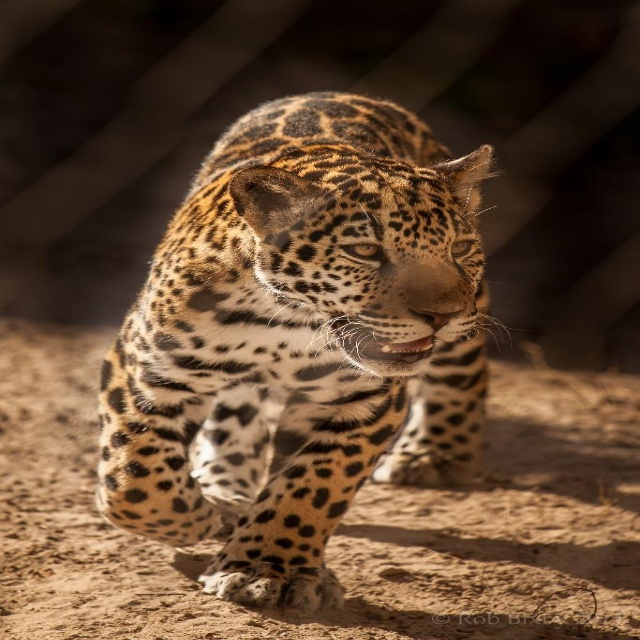Leopard: (82, 87, 518, 622)
